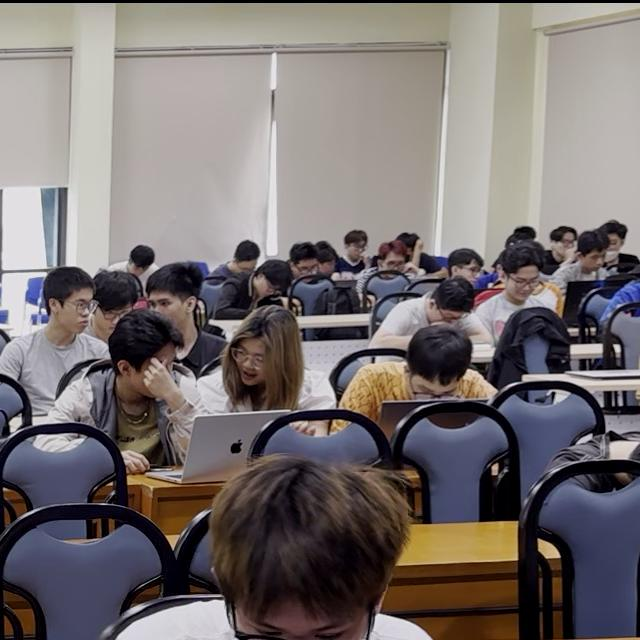Looking away: (229, 332, 276, 392), (54, 283, 96, 338), (504, 268, 542, 305)
